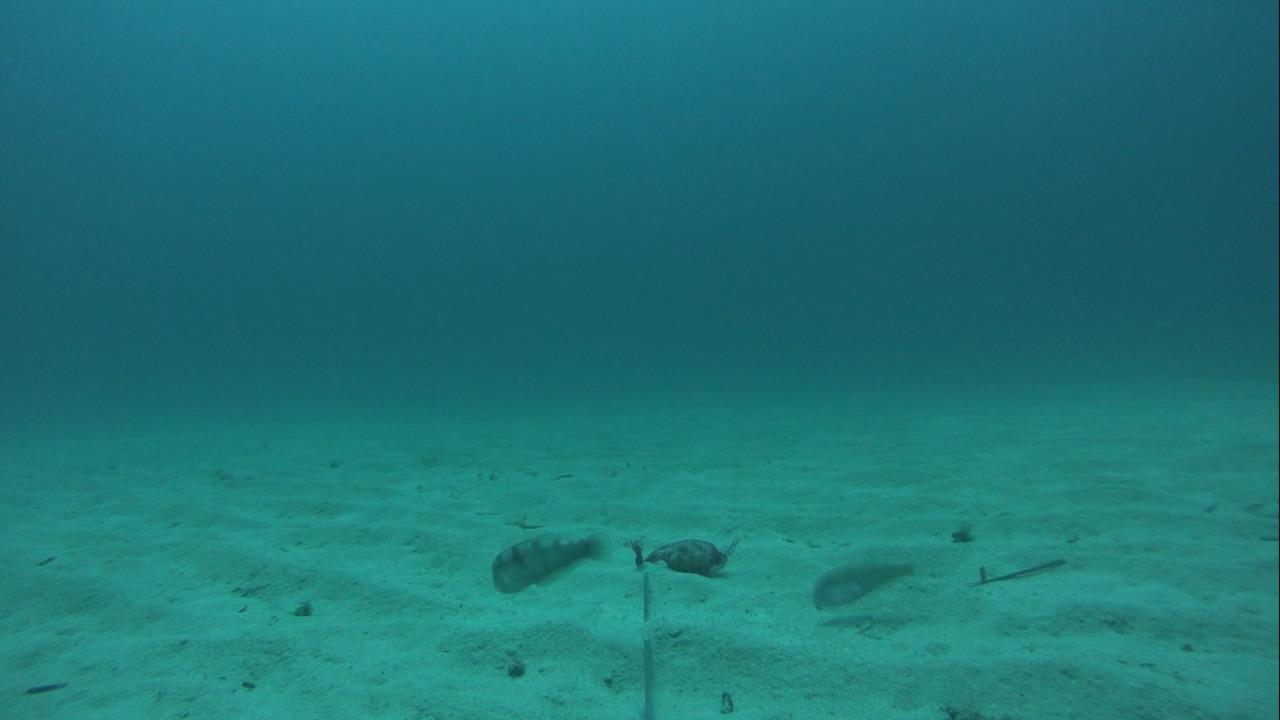raor: (490, 527, 608, 598), (807, 555, 917, 614)
